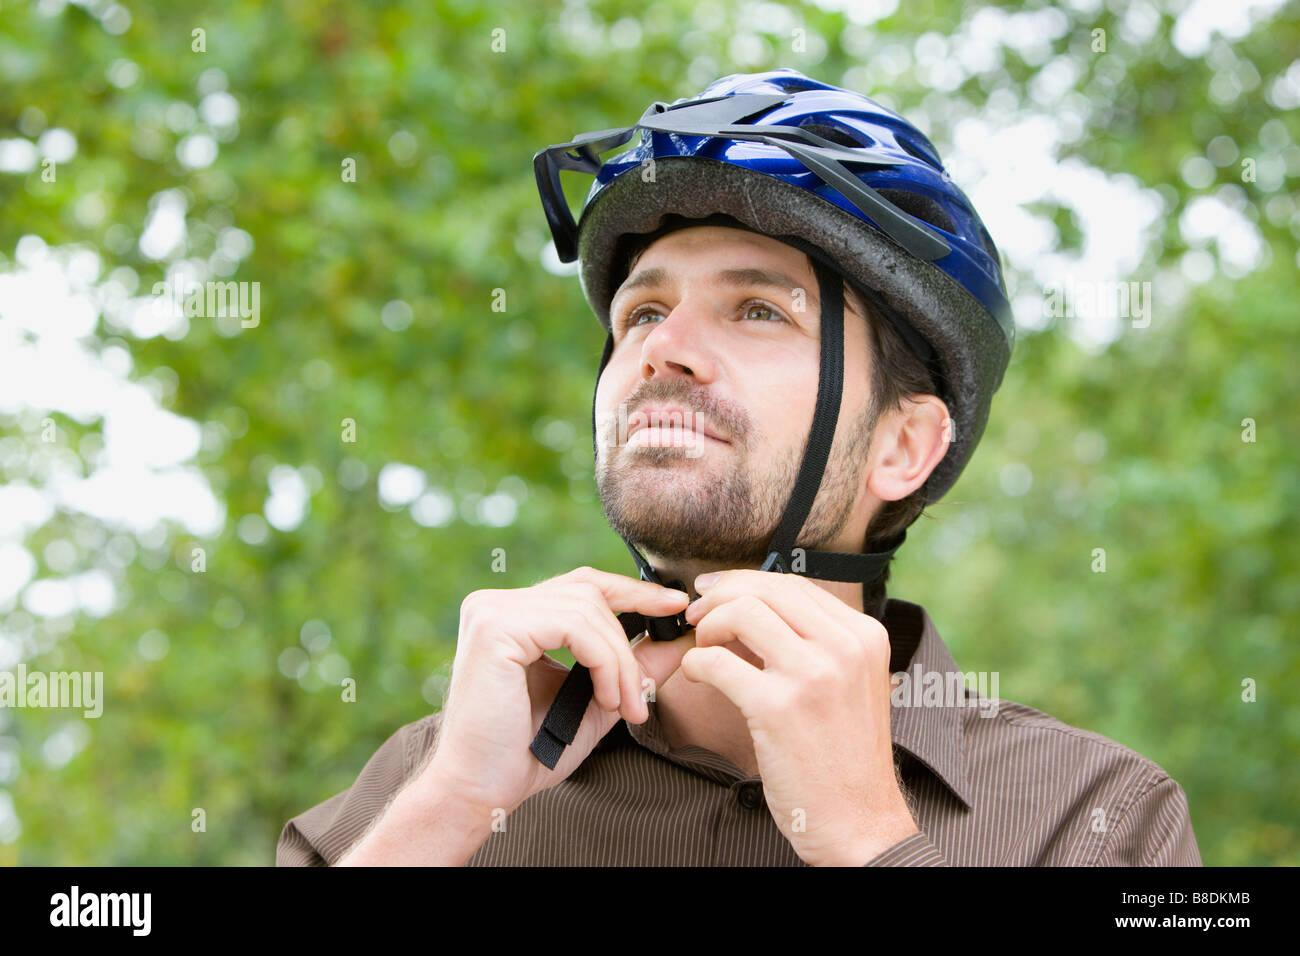Helmet: (538, 73, 1012, 329)
